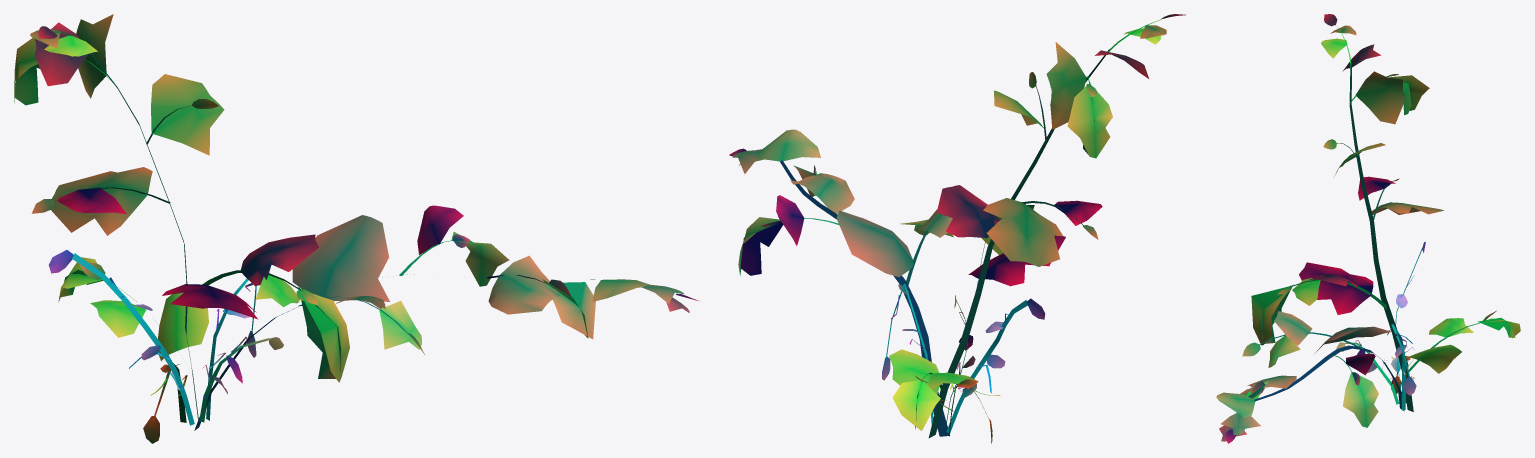
The model's file is Raspberry_wf0oefeja_High_wf0oefeja_VarG_LOD2.fbx.
3 views of the same model, side by side, from view 1: azimuth 30°, elevation 25°; view 2: azimuth 150°, elevation 25°; view 3: azimuth 270°, elevation 25° (orthographic). The views are drawn at different scales.
Parts seen in each view (by area): view 1: _0vcy_VarG_LOD3; view 2: _0vcy_VarG_LOD3; view 3: _0vcy_VarG_LOD3.
Boxes of the visible parts, bbox=[...] form: _0vcy_VarG_LOD3: bbox=[14, 14, 698, 443]; _0vcy_VarG_LOD3: bbox=[729, 14, 1185, 443]; _0vcy_VarG_LOD3: bbox=[1216, 14, 1520, 443].
Bounding box in the file's own units: 75.31 × 59.8 × 50.39.
